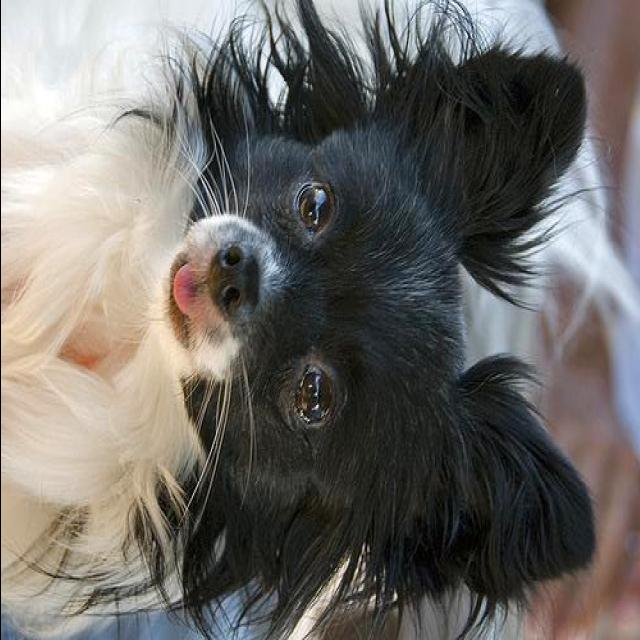papillon: (10, 19, 588, 628)
